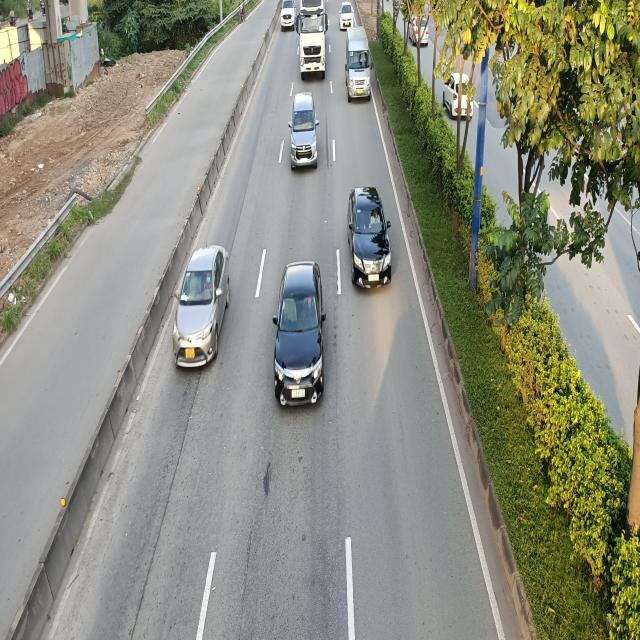car: (271, 264, 325, 406), (175, 244, 231, 367), (346, 184, 391, 290), (287, 95, 318, 171), (280, 0, 296, 31), (340, 0, 354, 29)
truck: (296, 2, 327, 81)
van: (345, 27, 372, 103)
